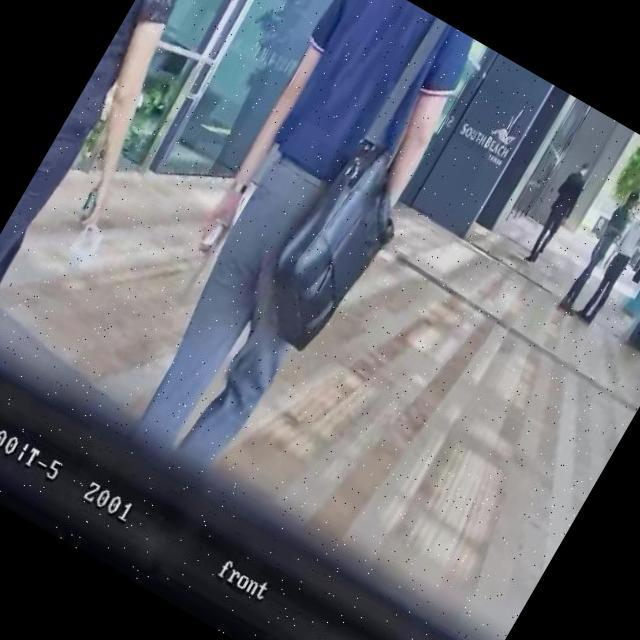person: (92, 0, 490, 494), (0, 0, 268, 367), (559, 185, 640, 315), (520, 157, 598, 270), (576, 198, 640, 326)
